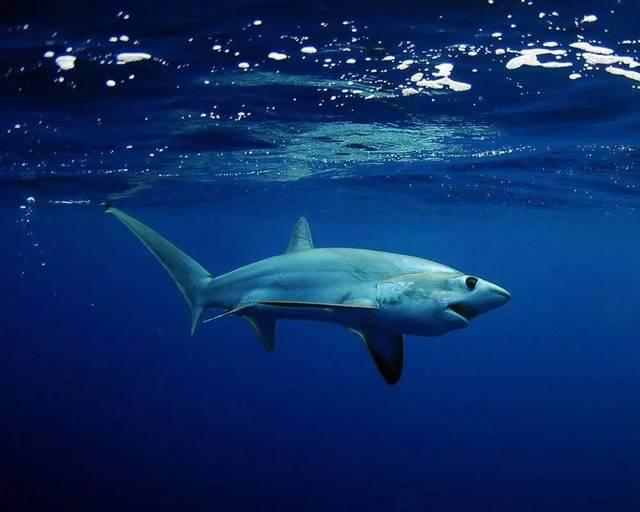fish: (92, 203, 513, 384)
